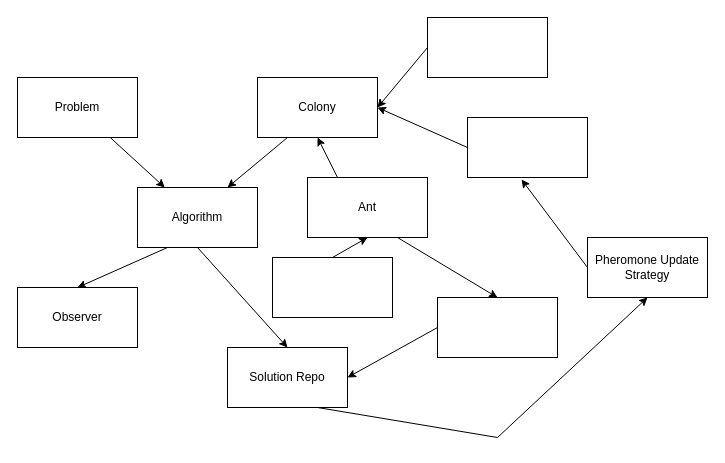
Some shapes in this 725 by 463 pixel diagram are drawn without their labels. Here are the shapes that lost their labels. From the top down, the centre of each, then its label:
At point 487,47: "Pheromone Agrregation".
At point 527,147: "Pheromone".
At point 332,287: "Decision Algorithm".
At point 497,327: "Solution".
